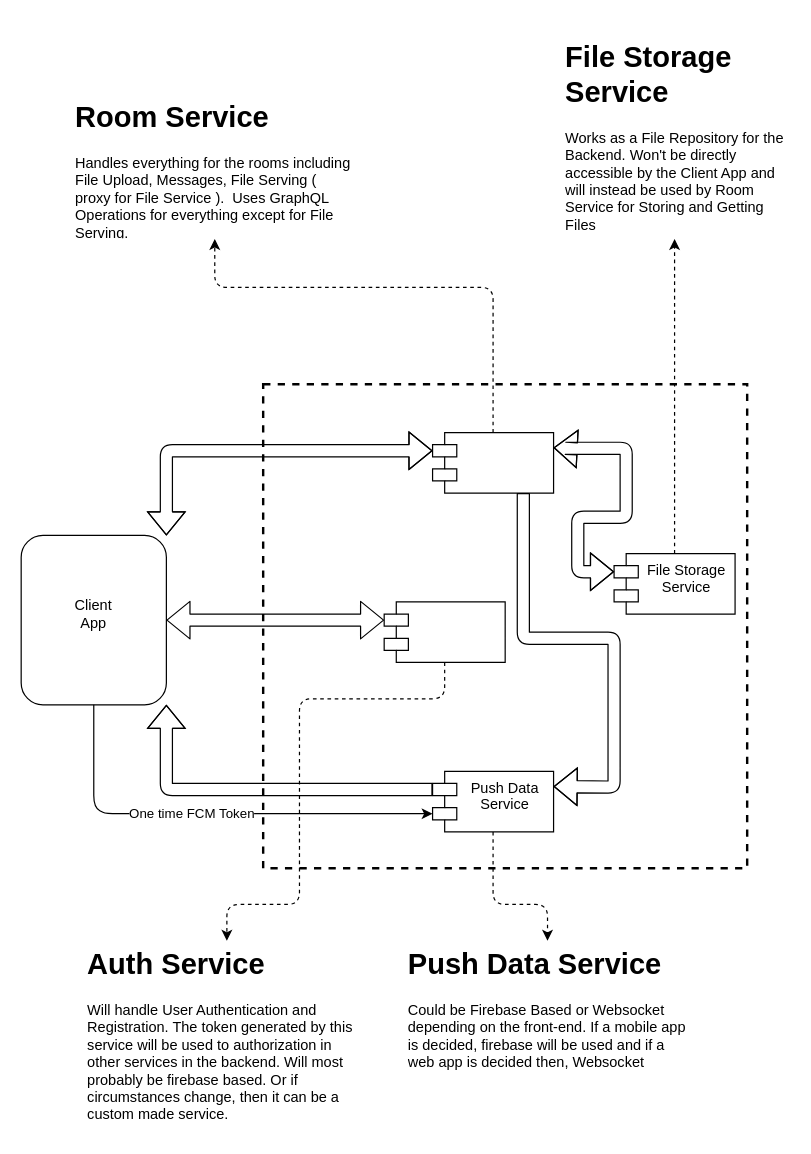
Some shapes in this 811 by 1154 pixel diagram are drawn without their labels. The centre of each missing label's shape, as x and y in pixels:
Auth Service: [444,631]
Room Service (GraphQL + Rest): [492,462]
